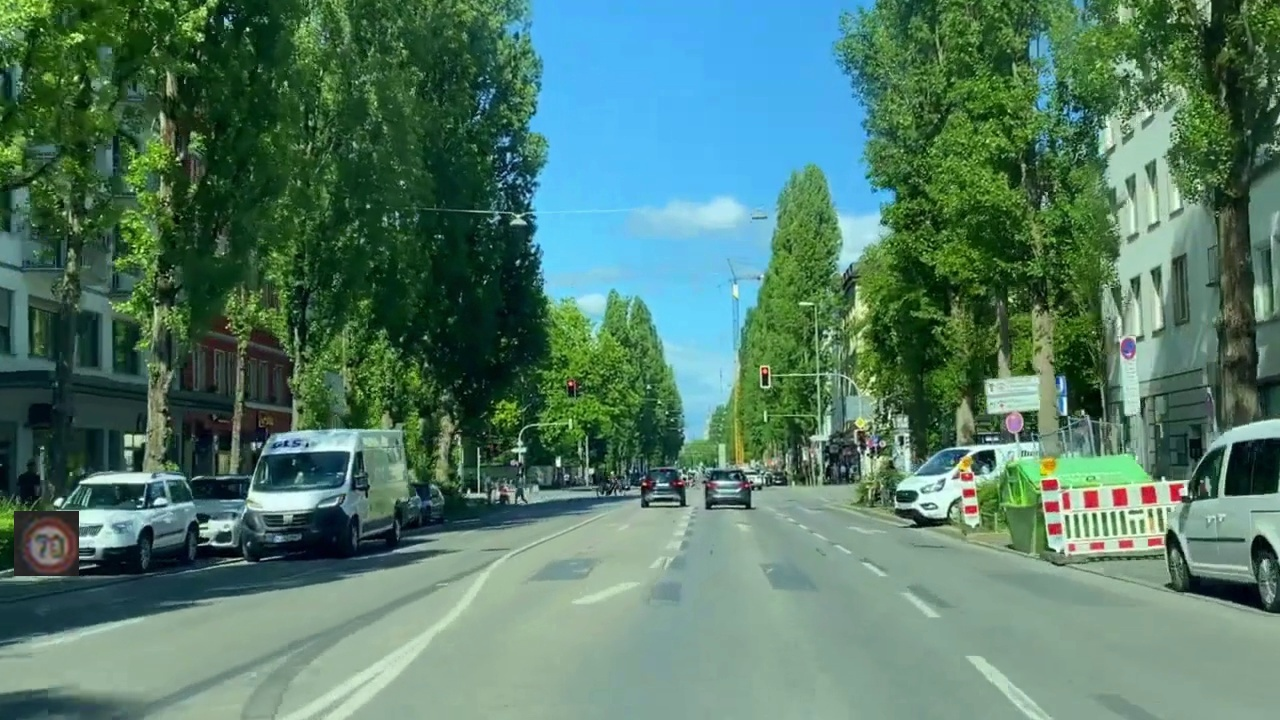Speed 70: (14, 511, 79, 576)
